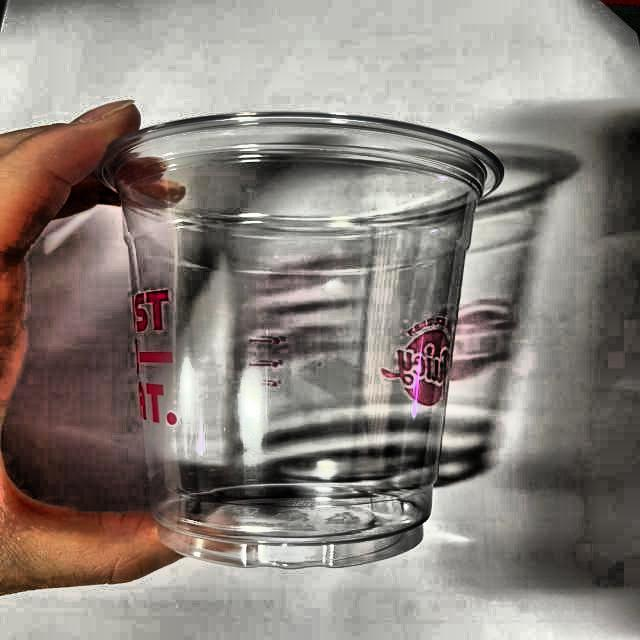plastic cup: (96, 109, 507, 570)
